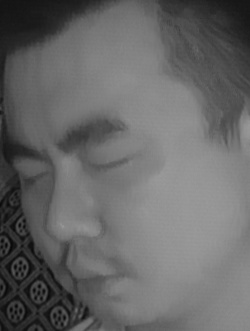blink: (84, 149, 133, 185), (17, 162, 53, 191)
mouth: (62, 250, 128, 305)
